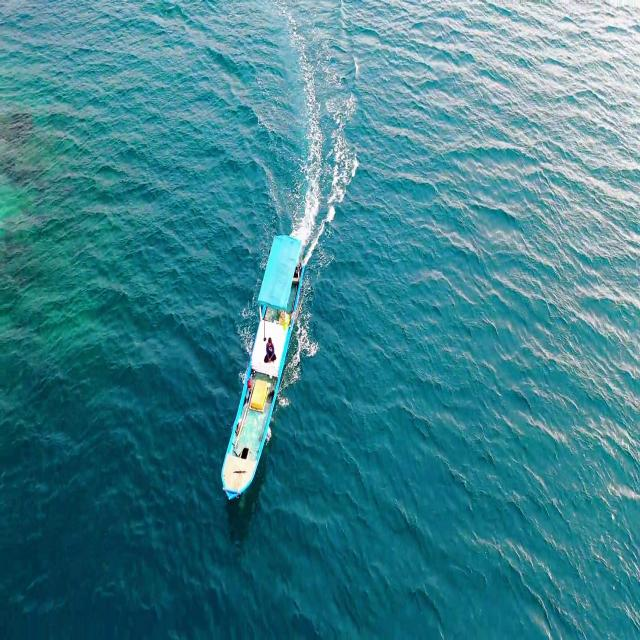ship: (218, 231, 305, 507)
